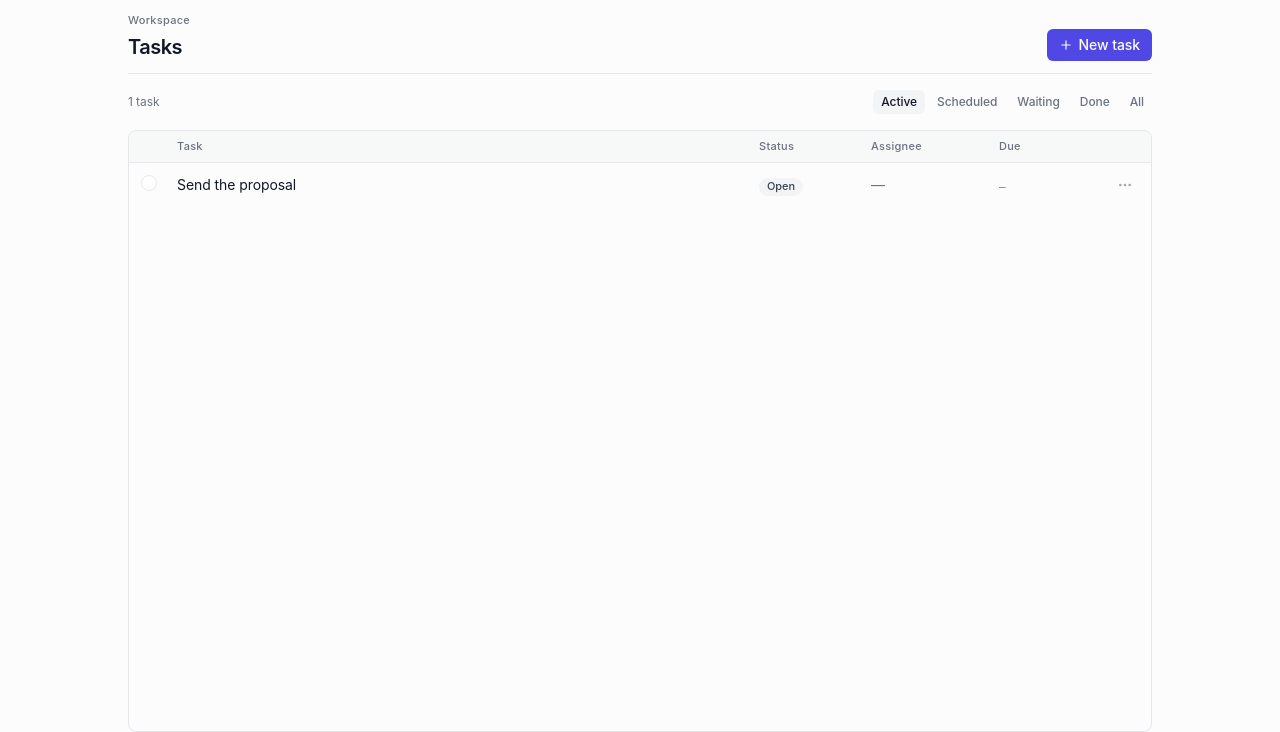
it: TasksSurface completion › completes an open task and moves it into Done
This screenshot has width=1280, height=732.
Click the checkbox named "Complete Send the proposal": (149, 183) [141,175,157,191]
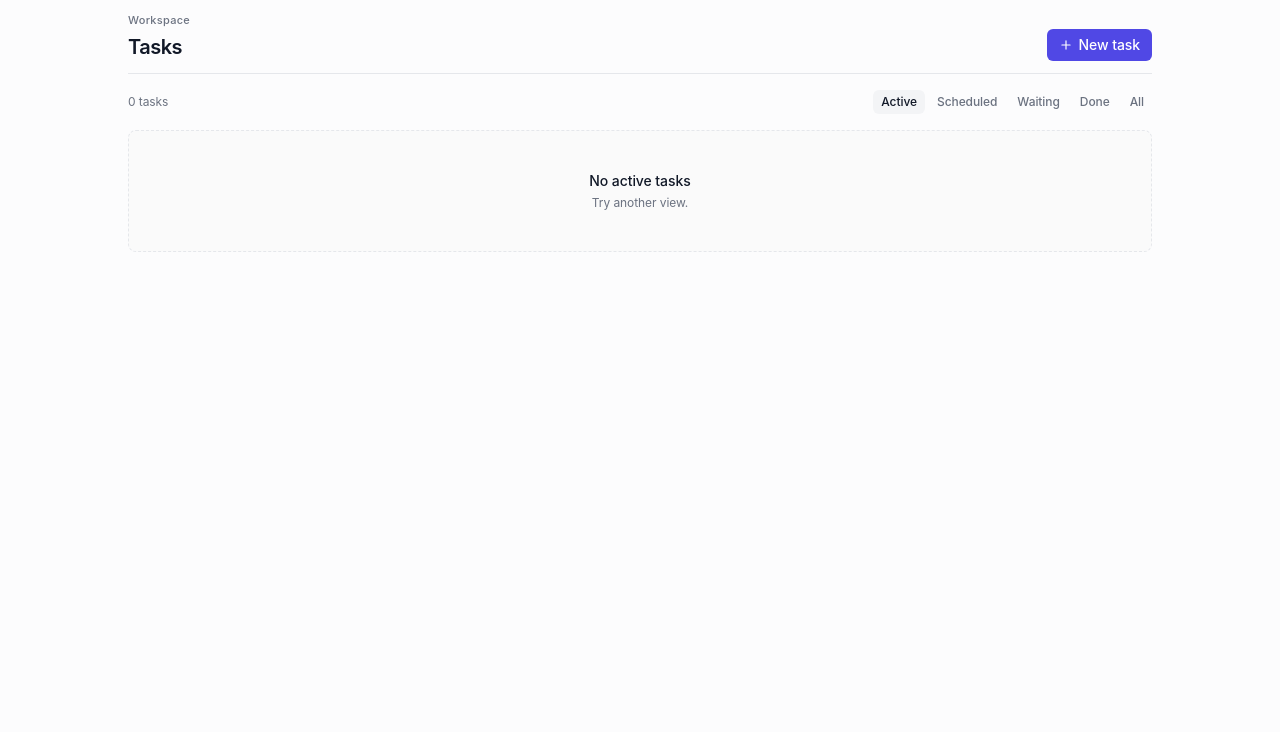
Expected: the text "Send the proposal" is gone
Click the button "Done": (1095, 102) [1072,90,1118,114]
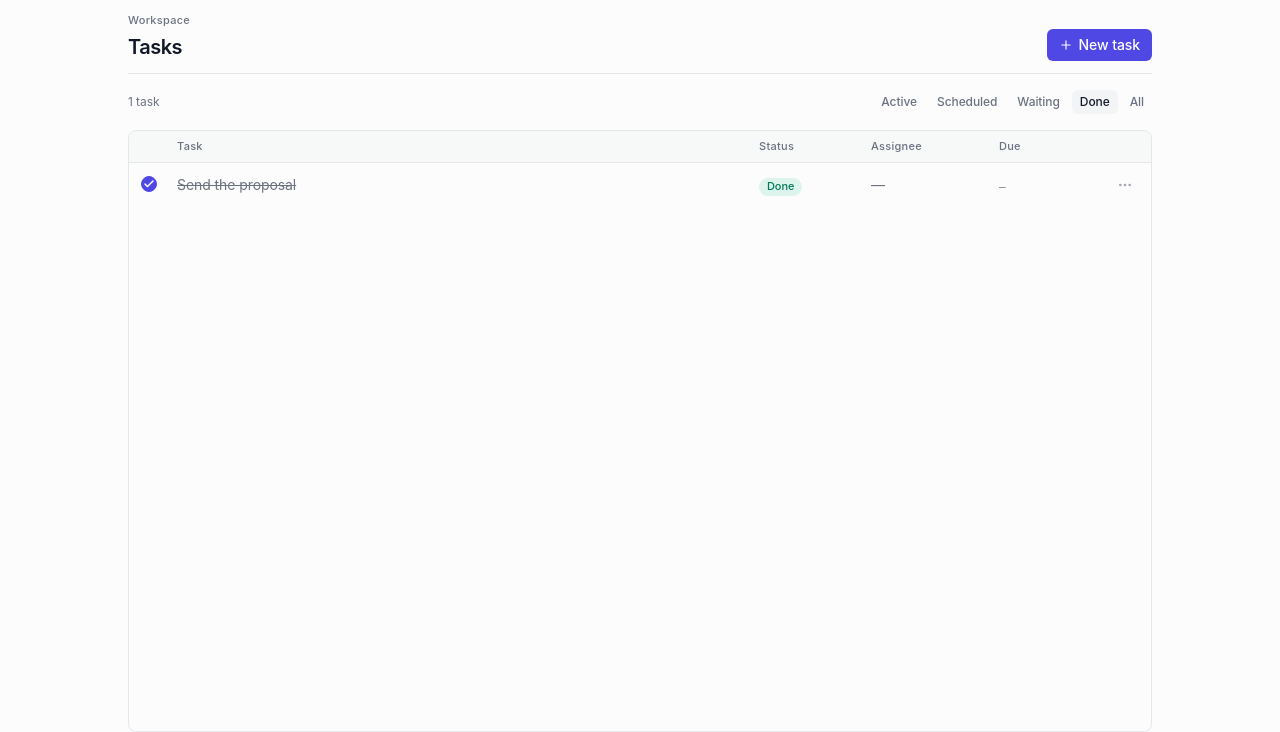
Expected: the checkbox named "Reopen Send the proposal" is shown, [141,176,157,192]
